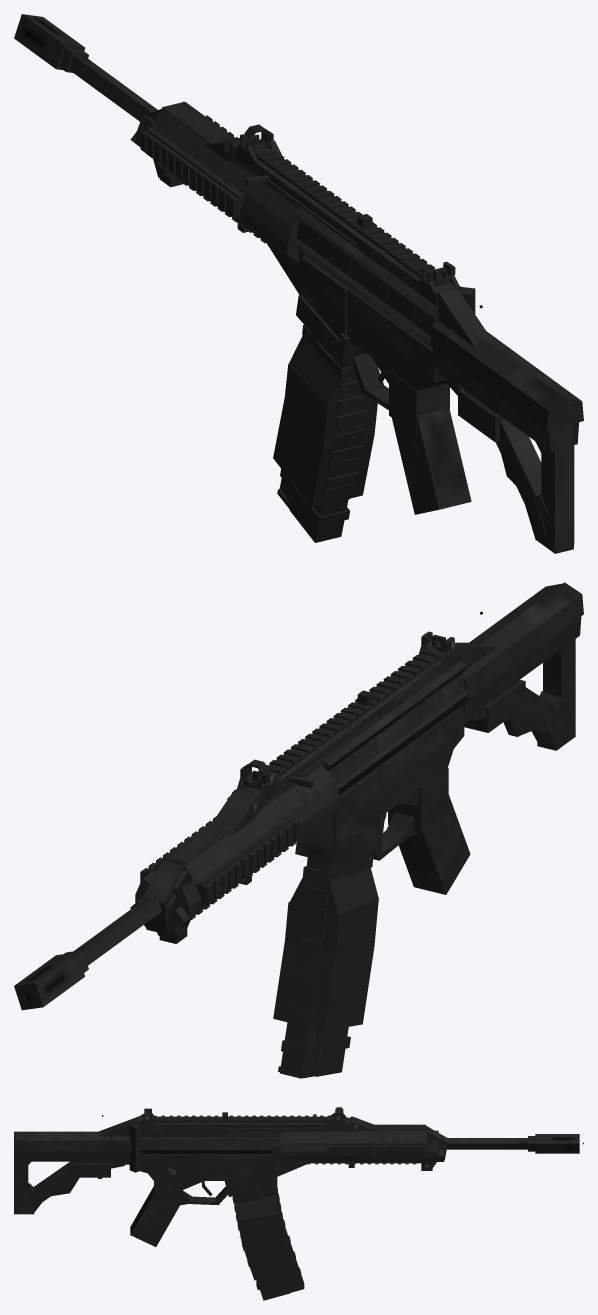
3 renders of one model, top to bottom at view 1: azimuth 30°, elevation 25°; view 2: azimuth 150°, elevation 25°; view 3: azimuth 270°, elevation 25°, orthographic. The views are drawn at different scales.
Parts seen in each view (by area): view 1: gun, stock, bone17, rail4, muzzledef, magazine4, rail2, bone2, barrel, stockadapter, bone4, magagfdgfdg3 (+2 smaller); view 2: gun, stock, bone17, magazine4, rail4, muzzledef, rail2, bone2, barrel, bone4, stockadapter, bone11 (+2 smaller); view 3: gun, stock, bone17, magazine4, rail4, rail3, muzzledef, bolt, barrel, stockadapter, bone4, bone11 (+2 smaller).
Boxes of the visible parts, bbox=[...] form: gun: bbox=[130, 101, 471, 514]; stock: bbox=[430, 287, 583, 553]; bone17: bbox=[273, 334, 377, 507]; rail4: bbox=[253, 147, 439, 278]; muzzledef: bbox=[14, 14, 88, 72]; magazine4: bbox=[277, 325, 368, 542]; rail2: bbox=[140, 131, 238, 217]; bone2: bbox=[293, 206, 438, 321]; barrel: bbox=[69, 55, 157, 121]; stockadapter: bbox=[430, 288, 491, 379]; bone4: bbox=[162, 102, 298, 207]; magagfdgfdg3: bbox=[303, 326, 367, 505]; gun: bbox=[130, 631, 470, 943]; stock: bbox=[437, 582, 583, 750]; bone17: bbox=[273, 868, 378, 1031]; magazine4: bbox=[278, 853, 373, 1078]; rail4: bbox=[258, 648, 442, 778]; muzzledef: bbox=[14, 950, 88, 1010]; rail2: bbox=[202, 819, 299, 905]; bone2: bbox=[323, 661, 466, 770]; barrel: bbox=[74, 895, 162, 965]; bone4: bbox=[164, 762, 324, 863]; stockadapter: bbox=[458, 643, 492, 723]; bone11: bbox=[281, 972, 350, 1057]; gun: bbox=[130, 1108, 448, 1246]; stock: bbox=[14, 1117, 141, 1214]; bone17: bbox=[235, 1195, 294, 1280]; magazine4: bbox=[232, 1187, 304, 1300]; rail4: bbox=[152, 1115, 335, 1122]; rail3: bbox=[328, 1145, 425, 1156]; muzzledef: bbox=[528, 1134, 579, 1153]; bolt: bbox=[217, 1138, 279, 1153]; barrel: bbox=[445, 1138, 527, 1149]; stockadapter: bbox=[109, 1118, 136, 1164]; bone4: bbox=[373, 1124, 425, 1130]; bone11: bbox=[256, 1235, 301, 1289].
Size of the model in its own units: 45.86 by 225 by 615.
Materials: 1 (1 with a texture image).
